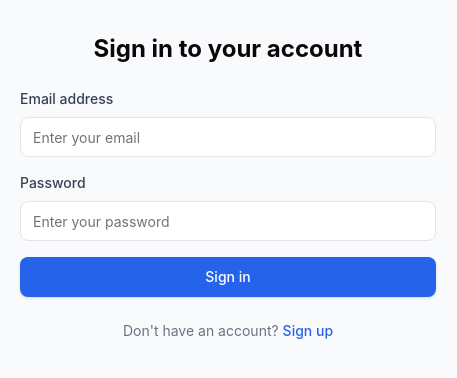
Scenario: Authentication Pages › Login Page › should show error on failed login
This screenshot has width=457, height=378.
Type "test@example.com" into the field labelled "Email address" at (228, 137), box left=20, top=117, right=436, bottom=157
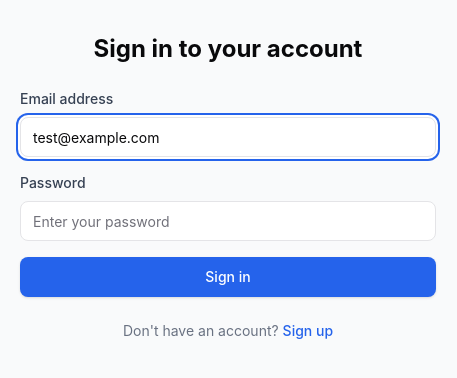
Type "wrongpassword" into the password field labelled "Password" at (228, 221), box left=20, top=201, right=436, bottom=241
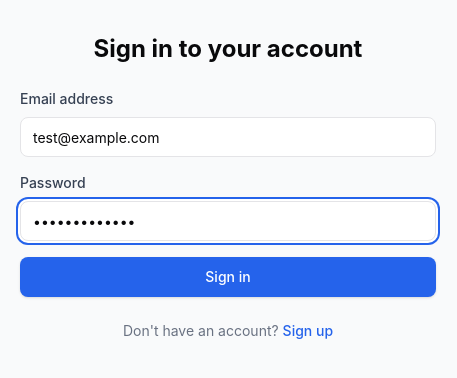
Click the button "Sign in" at (228, 277), box left=20, top=257, right=436, bottom=297
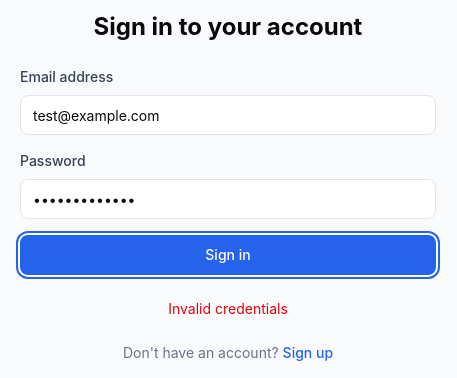
Check: the text "Invalid credentials" is shown, box left=168, top=300, right=288, bottom=317
